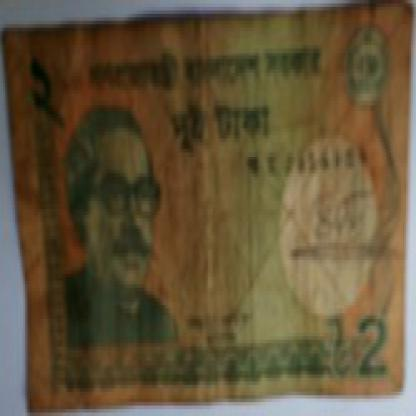two taka: (165, 76, 313, 166), (20, 48, 65, 138), (353, 312, 391, 381)
